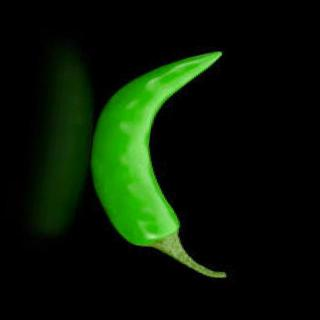Cabai Hijau: (79, 28, 255, 274)
